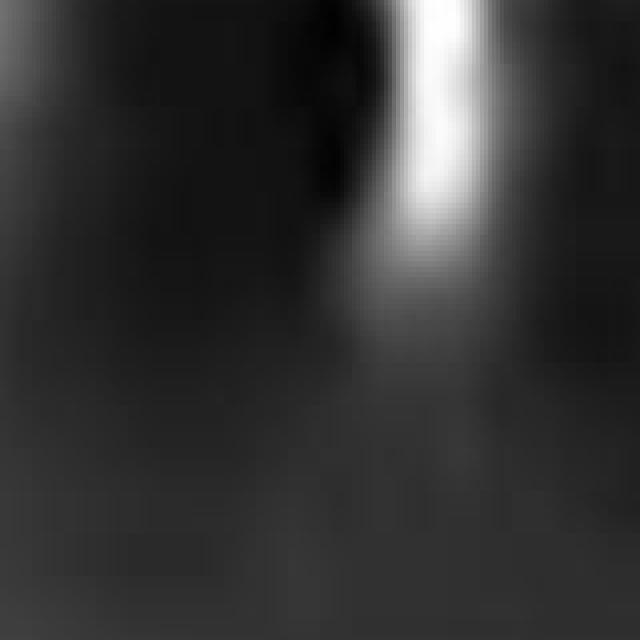person: (329, 1, 513, 390)
